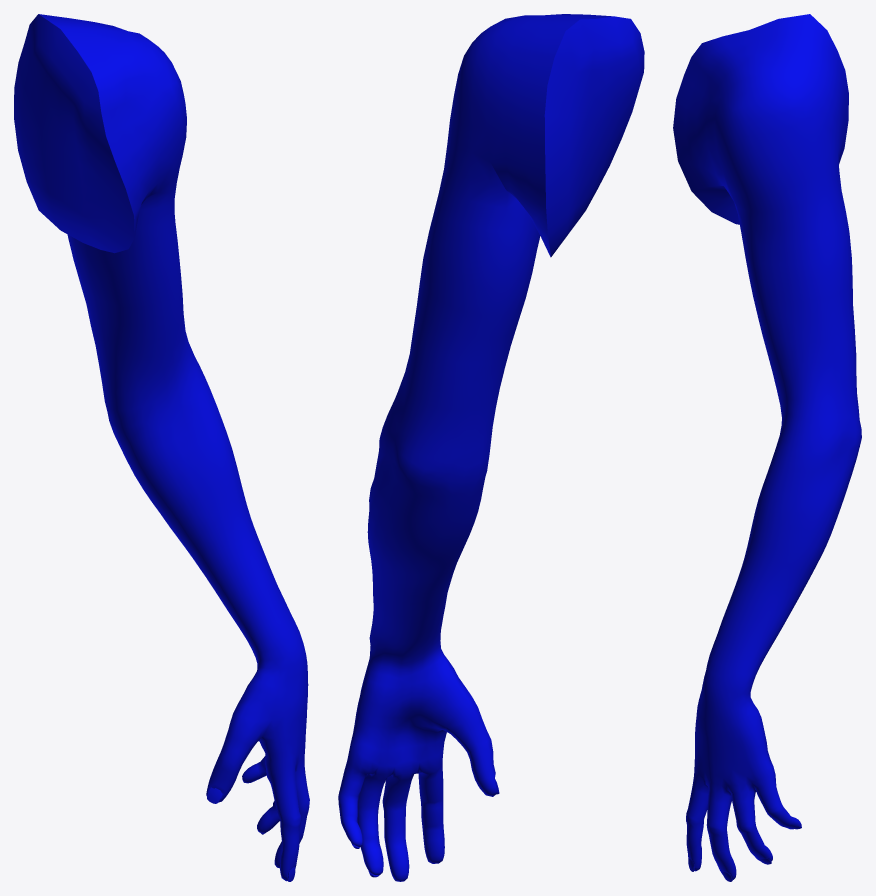
File: arm.fbx
The picture shows the model from 3 angles, left to right: view 1: azimuth 30°, elevation 25°; view 2: azimuth 150°, elevation 25°; view 3: azimuth 270°, elevation 25°; orthographic projection. The views are drawn at different scales.
Parts seen in each view (by area): view 1: arm_painting; view 2: arm_painting; view 3: arm_painting.
Part boxes in pixels (bbox=[...]): arm_painting: bbox=[14, 14, 309, 881]; arm_painting: bbox=[338, 14, 644, 881]; arm_painting: bbox=[673, 14, 861, 881].
Size of the model in its own units: 5.69 by 19.75 by 4.33.
